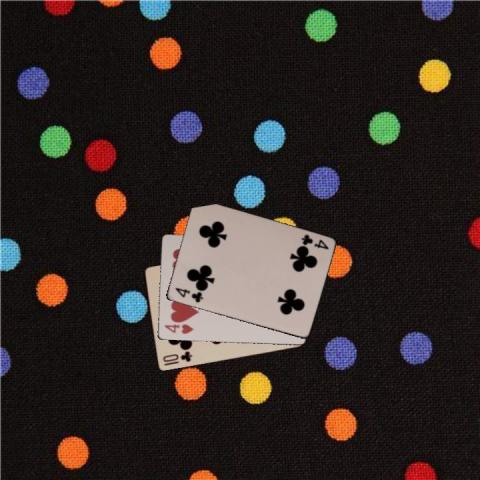10c: (160, 349, 194, 367)
4c: (298, 231, 330, 251), (172, 285, 204, 304)
4h: (161, 322, 195, 335)
